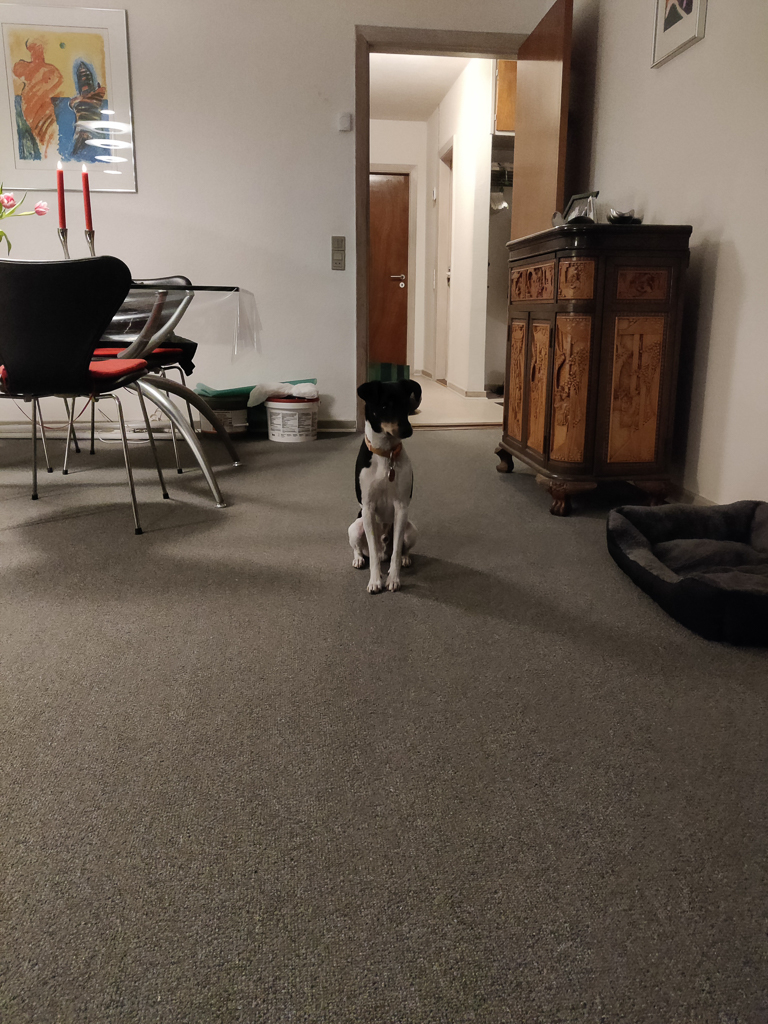Dog: (344, 372, 431, 601)
